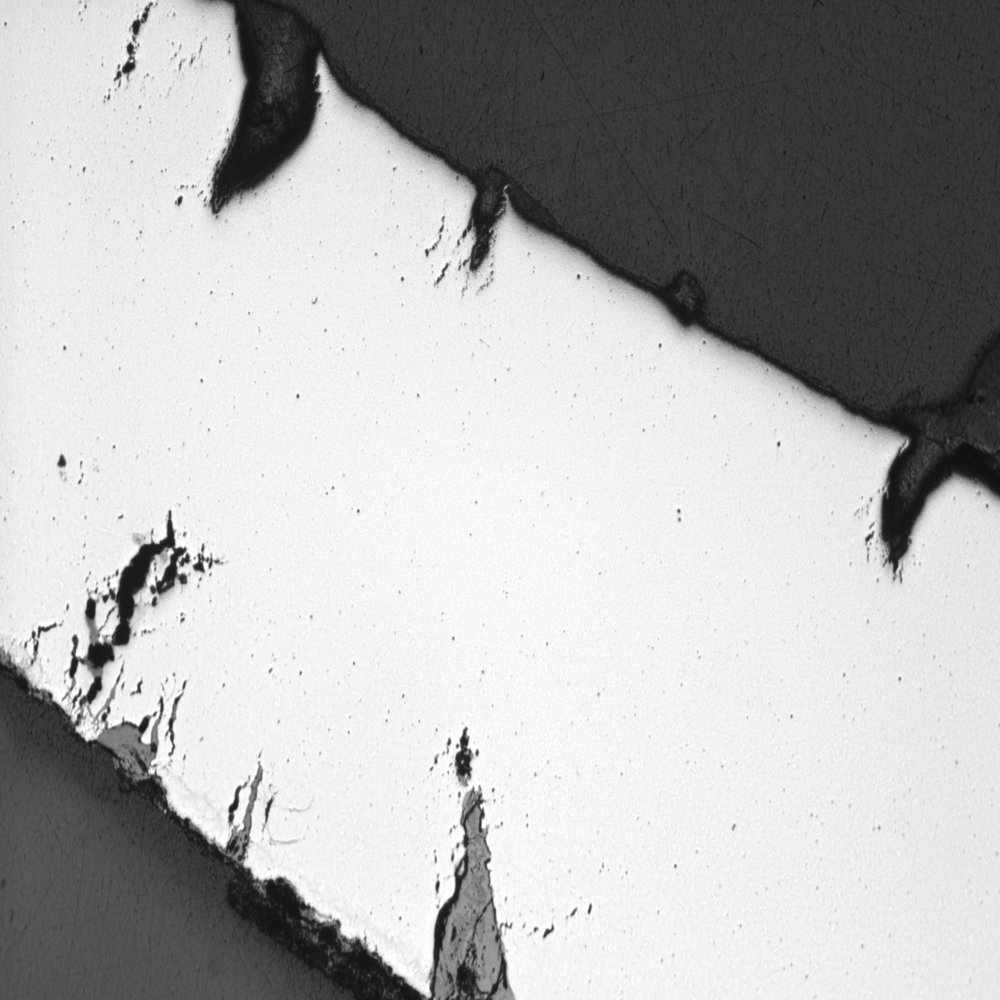crack: (76, 450, 183, 791), (399, 702, 521, 1000), (203, 1, 332, 243), (835, 429, 973, 609), (222, 723, 274, 890), (453, 181, 516, 291)
